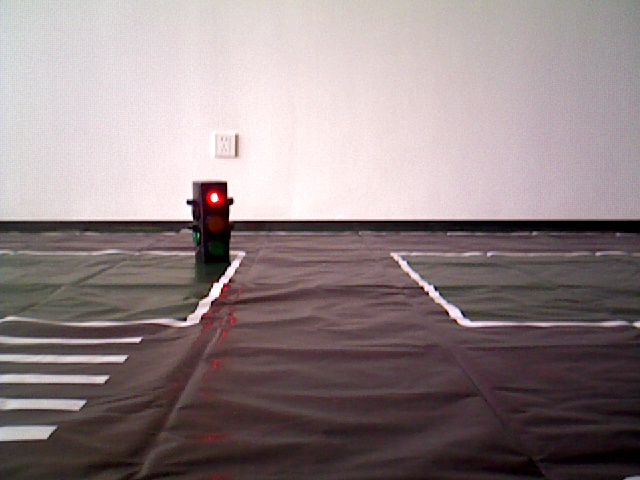red: (192, 183, 227, 266)
